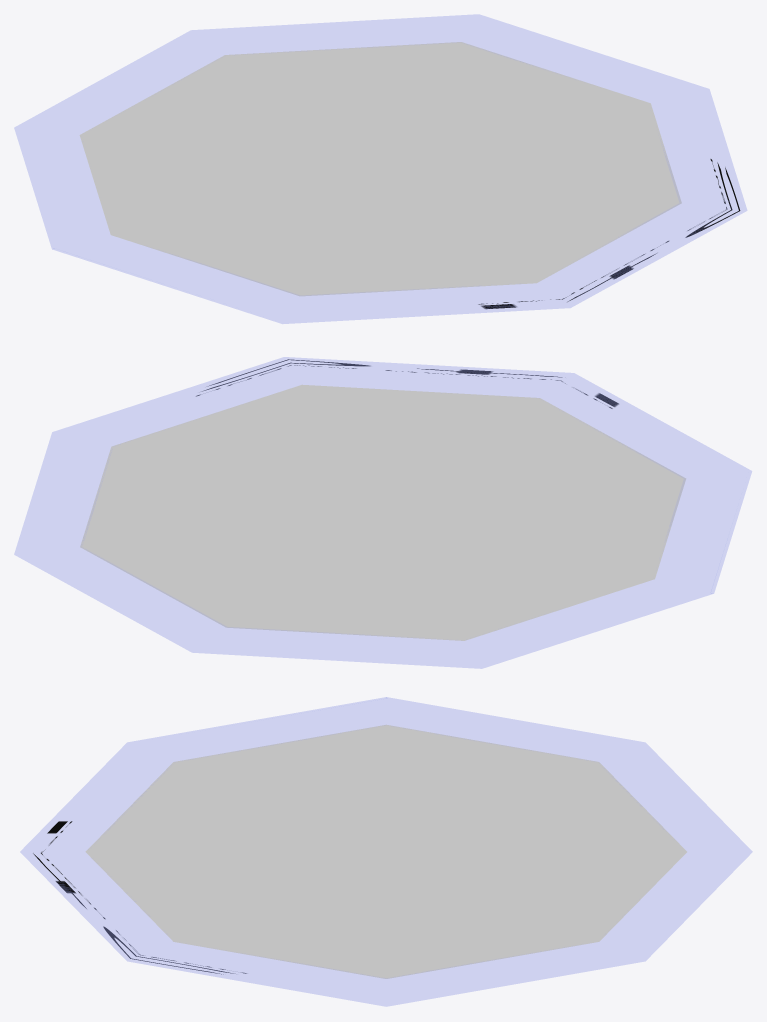
The model's file is beer.glb.
3 views of the same model, one above another, from view 1: azimuth 30°, elevation 25°; view 2: azimuth 150°, elevation 25°; view 3: azimuth 270°, elevation 25° (orthographic). The views are drawn at different scales.
Visible parts, largest first — view 1: Glass; view 2: Glass; view 3: Glass.
Boxes of the visible parts, bbox=[...] form: Glass: bbox=[14, 14, 747, 323]; Glass: bbox=[14, 357, 751, 668]; Glass: bbox=[20, 697, 752, 1006].
Size of what is drawn, in the model's own units: 0.1373 by 0 by 0.1379.
3 materials, 1 textured.
